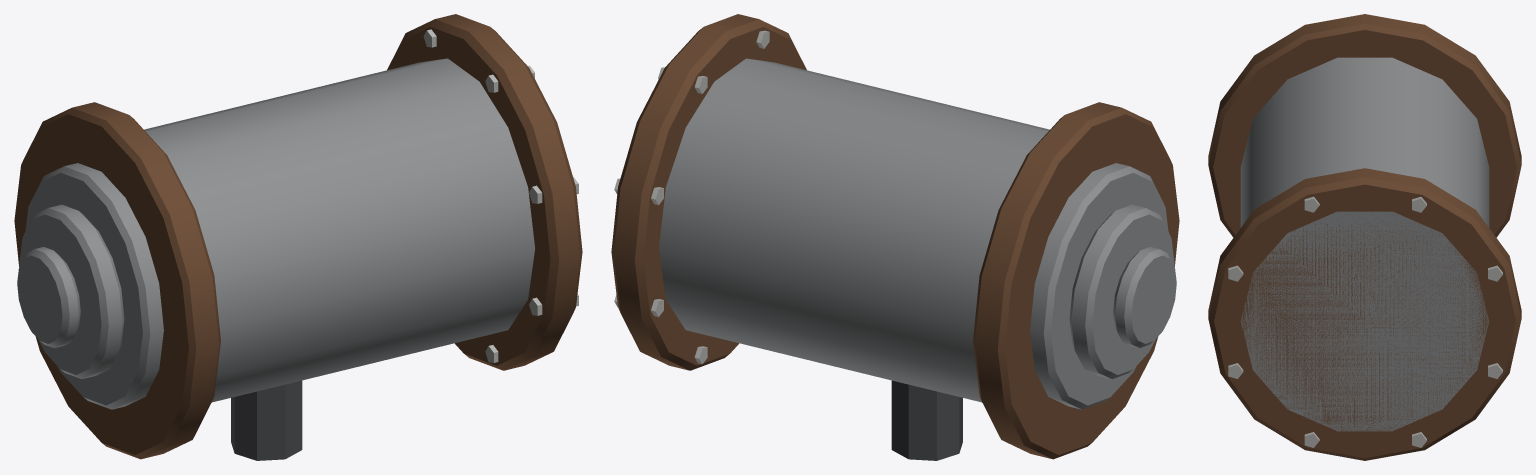
File: pipe-ending-right.glb
The picture shows the model from 3 angles, left to right: view 1: azimuth 30°, elevation 25°; view 2: azimuth 150°, elevation 25°; view 3: azimuth 270°, elevation 25°; orthographic projection. The views are drawn at different scales.
Visible parts, largest first — view 1: body; view 2: body; view 3: body.
Part boxes in pixels (x1,y1,x2,y2): body: (14, 14, 582, 460); body: (611, 14, 1179, 460); body: (1208, 14, 1521, 460).
Bounding box in the file's own units: 1 × 0.76 × 0.68.
